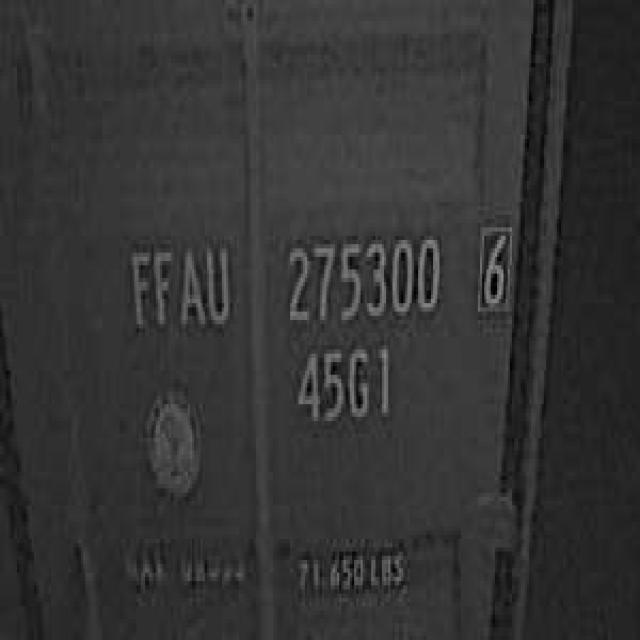dv: (472, 211, 514, 320)
owner: (123, 231, 234, 337)
serial: (282, 223, 444, 329)
size: (286, 337, 397, 434)
